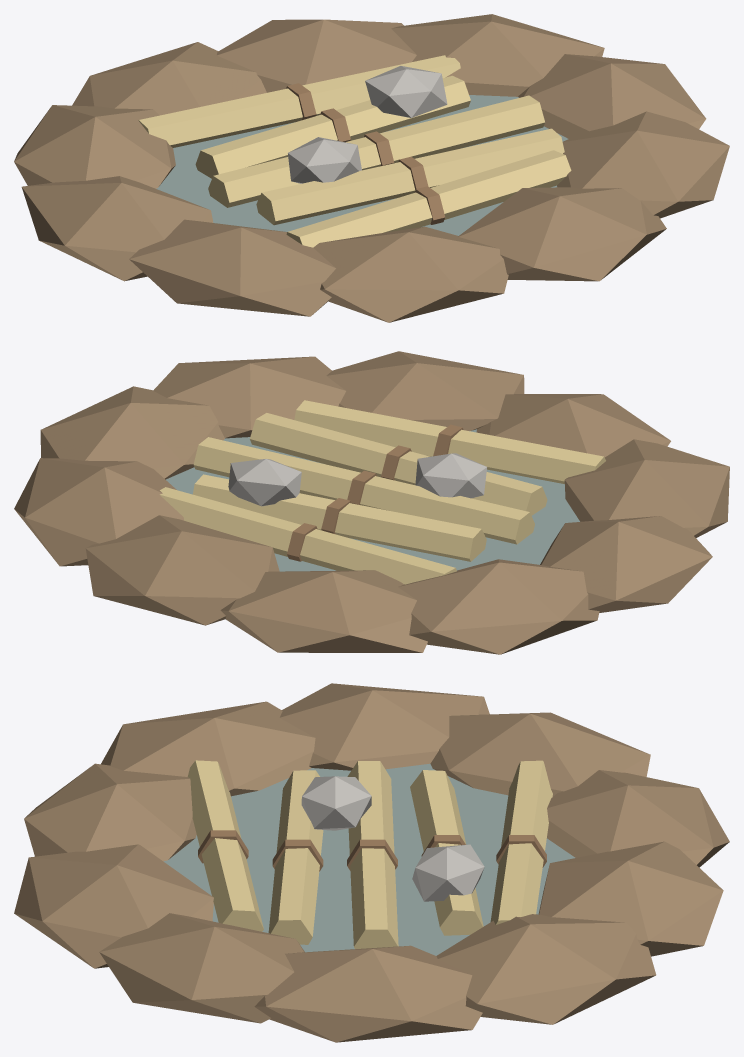
Rendered from retting_pit.glb.
3 renders of one model, top to bottom at view 1: azimuth 30°, elevation 25°; view 2: azimuth 150°, elevation 25°; view 3: azimuth 270°, elevation 25°, orthographic. The views are drawn at different scales.
Parts seen in each view (by area): view 1: retting_pit; view 2: retting_pit; view 3: retting_pit.
Part boxes in pixels (bbox=[...]): retting_pit: bbox=[14, 14, 729, 322]; retting_pit: bbox=[14, 351, 729, 654]; retting_pit: bbox=[14, 683, 729, 1042].
Bounding box in the file's own units: 2.14 × 0.2063 × 1.92.
